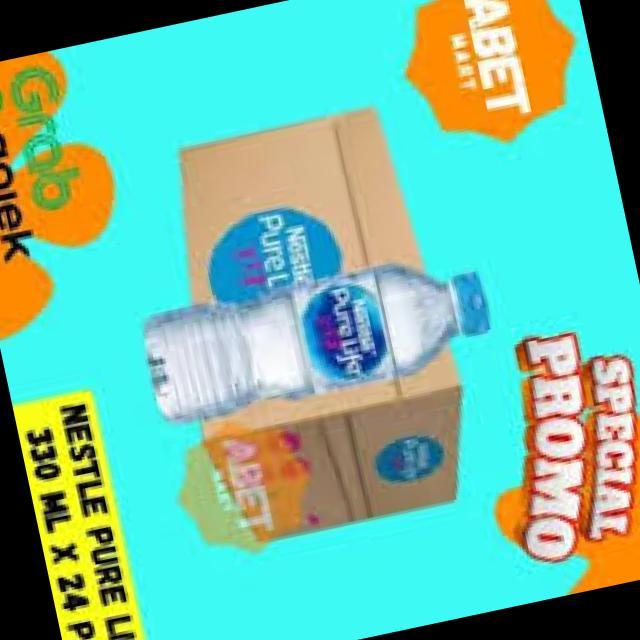good: (123, 233, 516, 474)
